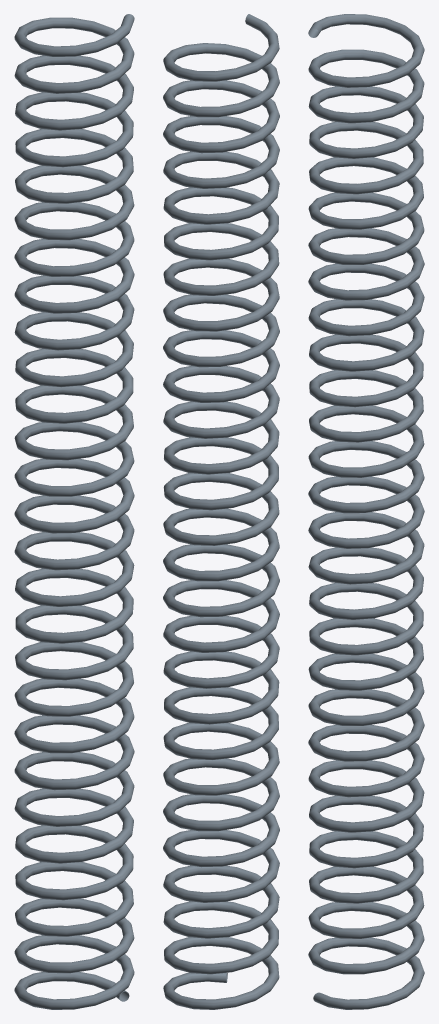
The model's file is resorte.gltf.
The picture shows the model from 3 angles, left to right: view 1: azimuth 90°, elevation 25°; view 2: azimuth 150°, elevation 25°; view 3: azimuth 270°, elevation 25°; orthographic projection. The views are drawn at different scales.
Parts seen in each view (by area): view 1: Circle; view 2: Circle; view 3: Circle.
Boxes of the visible parts, x1,y1,x2,y2 form: Circle: [14, 14, 134, 1009]; Circle: [163, 14, 279, 1009]; Circle: [308, 14, 424, 1009].
Size of the model in its own units: 0.11 by 1.01 by 0.11.
Materials: 1 (1 with a texture image).
